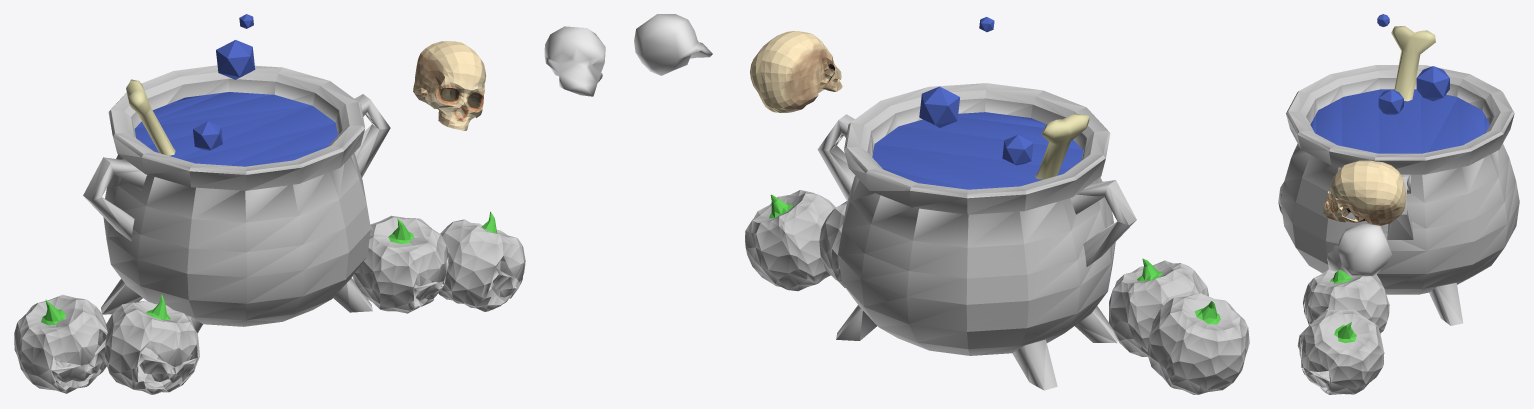
File: KUALI dan labu 2.fbx
3 renders of one model, left to right at view 1: azimuth 30°, elevation 25°; view 2: azimuth 150°, elevation 25°; view 3: azimuth 270°, elevation 25°, orthographic. The views are drawn at different scales.
Visible parts, largest first — view 1: SM_Cauldron_Cauldron_Mat_0, SM_Cauldron_Cauldron_Mat_0.001, Object_2.002, Object_2, Object_2.003, Object_2.004, polySurface13_lambert1_0, Object_2.001, floti_Potion_0, Sphere012_Material #219_0; view 2: SM_Cauldron_Cauldron_Mat_0, SM_Cauldron_Cauldron_Mat_0.001, Object_2, Object_2.004, polySurface13_lambert1_0, Object_2.002, Object_2.001, floti_Potion_0, Sphere012_Material #219_0, Object_2.003; view 3: SM_Cauldron_Cauldron_Mat_0, SM_Cauldron_Cauldron_Mat_0.001, Object_2.004, polySurface13_lambert1_0, Object_2.003, Object_2.001, Sphere012_Material #219_0, floti_Potion_0, Object_4.004.
Part boxes in pixels (x1,y1,x2,y2): SM_Cauldron_Cauldron_Mat_0: (83, 65, 390, 333); SM_Cauldron_Cauldron_Mat_0.001: (134, 92, 337, 166); Object_2.002: (101, 300, 199, 394); Object_2: (14, 294, 107, 393); Object_2.003: (352, 215, 448, 313); Object_2.004: (432, 219, 525, 311); polySurface13_lambert1_0: (413, 41, 486, 130); Object_2.001: (544, 26, 605, 96); floti_Potion_0: (193, 14, 255, 150); Sphere012_Material #219_0: (126, 79, 175, 155); SM_Cauldron_Cauldron_Mat_0: (817, 83, 1136, 390); SM_Cauldron_Cauldron_Mat_0.001: (872, 112, 1083, 189); Object_2: (1147, 293, 1249, 394); Object_2.004: (745, 190, 835, 291); polySurface13_lambert1_0: (750, 31, 842, 112); Object_2.002: (1109, 260, 1208, 356); Object_2.001: (634, 14, 712, 75); floti_Potion_0: (919, 17, 1033, 165); Sphere012_Material #219_0: (1035, 113, 1089, 179); Object_2.003: (819, 201, 847, 287); SM_Cauldron_Cauldron_Mat_0: (1281, 65, 1519, 325); SM_Cauldron_Cauldron_Mat_0.001: (1310, 89, 1489, 153); Object_2.004: (1297, 309, 1384, 394); polySurface13_lambert1_0: (1323, 160, 1406, 225); Object_2.003: (1303, 269, 1389, 333); Object_2.001: (1327, 223, 1392, 276); Sphere012_Material #219_0: (1391, 26, 1435, 101); floti_Potion_0: (1377, 14, 1449, 114); Object_4.004: (1334, 322, 1356, 343).
Bounding box in the file's own units: 742 × 397 × 301.
